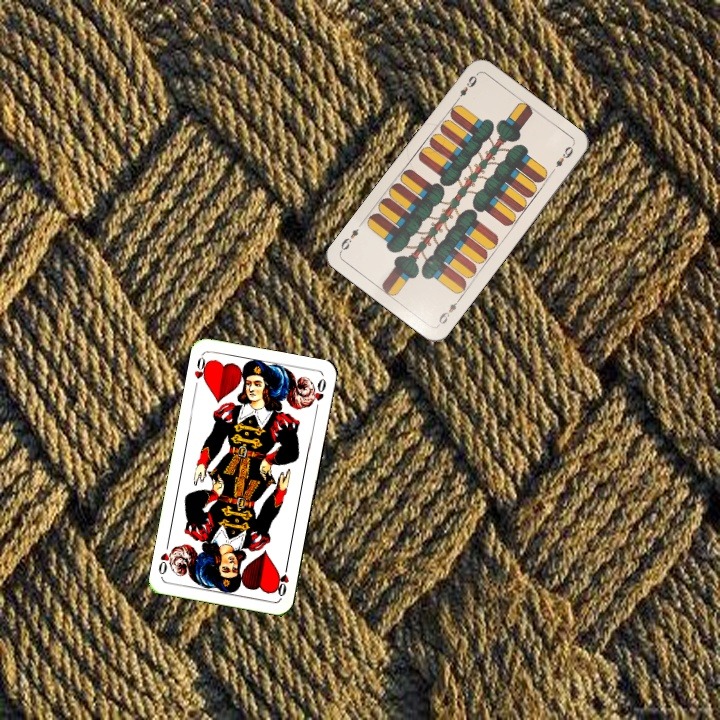E9: (451, 71, 480, 105), (435, 294, 463, 328)
HO: (190, 352, 212, 392), (272, 559, 291, 599)
